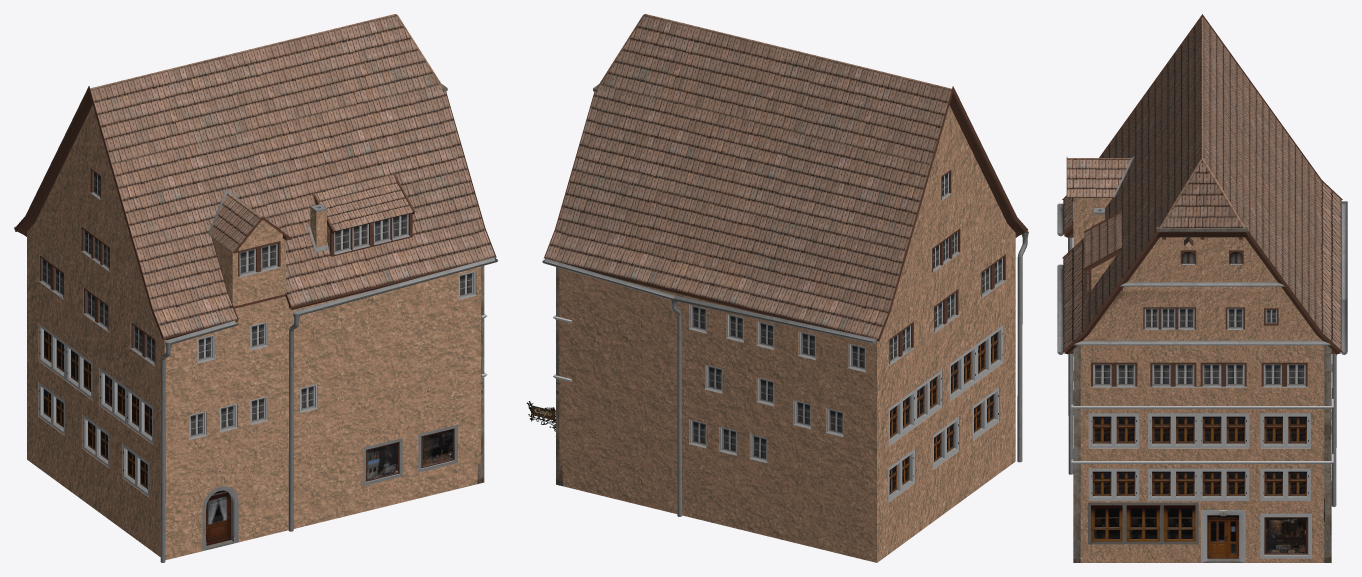
The model's file is mdl_wollo_rothenburg_4.gltf.
3 views of the same model, side by side, from view 1: azimuth 30°, elevation 25°; view 2: azimuth 150°, elevation 25°; view 3: azimuth 270°, elevation 25° (orthographic). The views are drawn at different scales.
Visible parts, largest first — view 1: Object_7, Object_2; view 2: Object_7, Object_2; view 3: Object_7, Object_2.
Boxes of the visible parts, box(x1,y1,x2,y2) form: Object_7: box(14, 14, 496, 560); Object_2: box(14, 172, 497, 562); Object_7: box(543, 14, 1027, 562); Object_2: box(526, 172, 1028, 516); Object_7: box(1062, 14, 1342, 562); Object_2: box(1057, 201, 1347, 558).
Bounding box in the file's own units: 17.34 × 19.59 × 12.89.
Materials: 1 (1 with a texture image).
